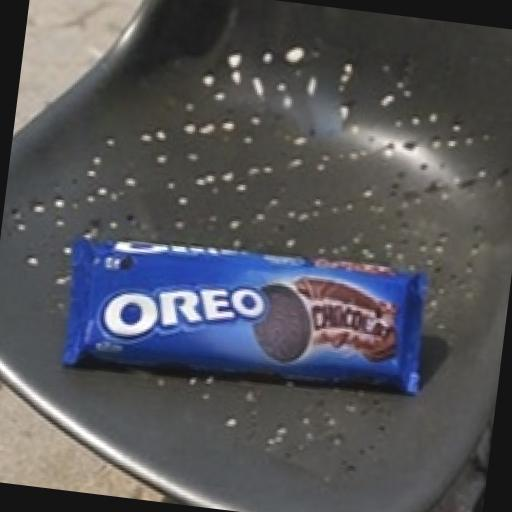oreo: (4, 142, 492, 480)
